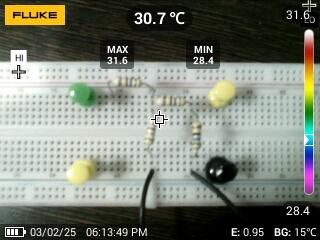resistor: (109, 74, 145, 88), (144, 114, 158, 149), (156, 94, 188, 109), (190, 118, 203, 154)
